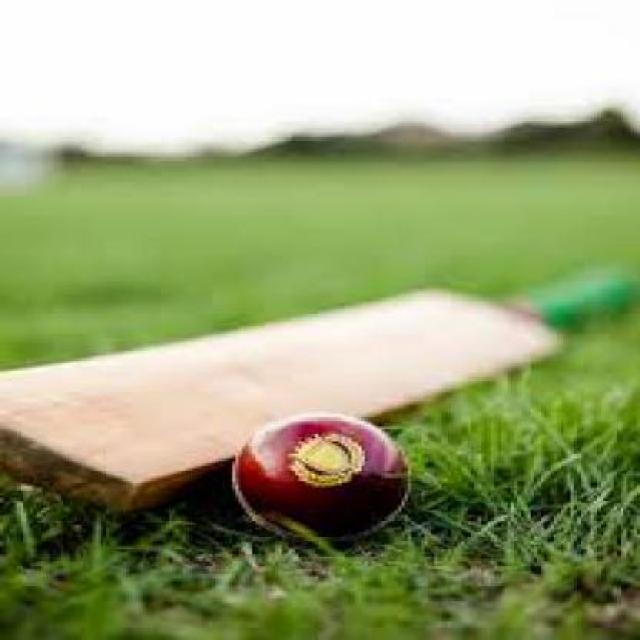ball: (220, 401, 427, 558)
